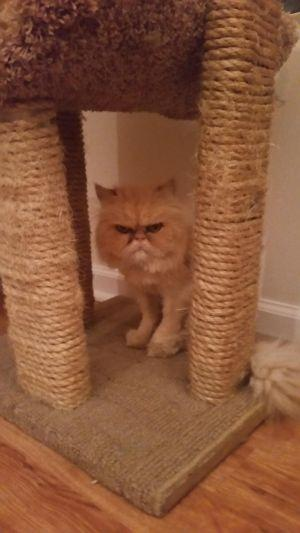persian: (76, 166, 205, 290)
